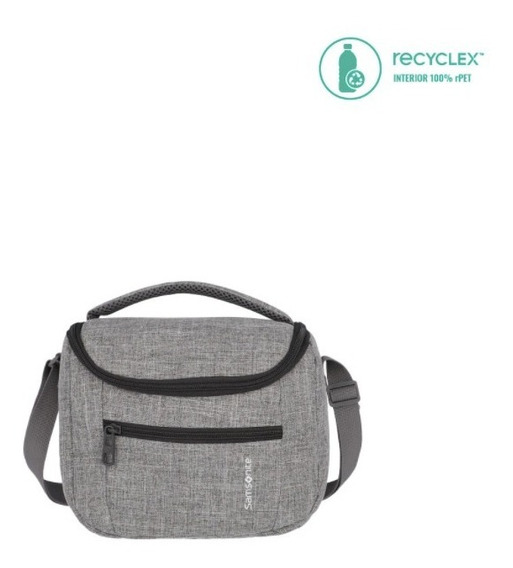cartera: (21, 279, 361, 539)
